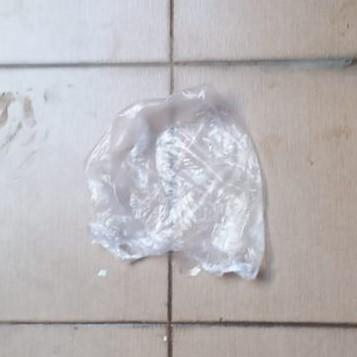Plastik: (85, 83, 266, 281)
